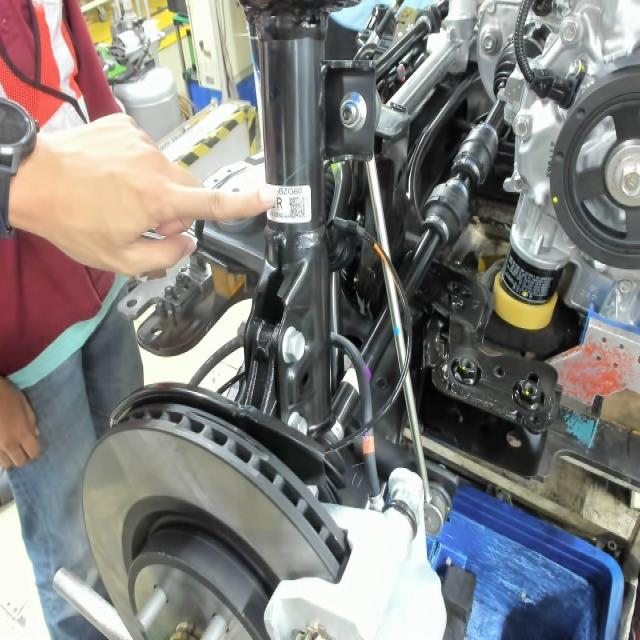Absorber RH-22: (278, 184, 308, 226)
Disc-HT: (118, 491, 287, 640)
Drive Shaft-UG: (341, 363, 374, 397)
